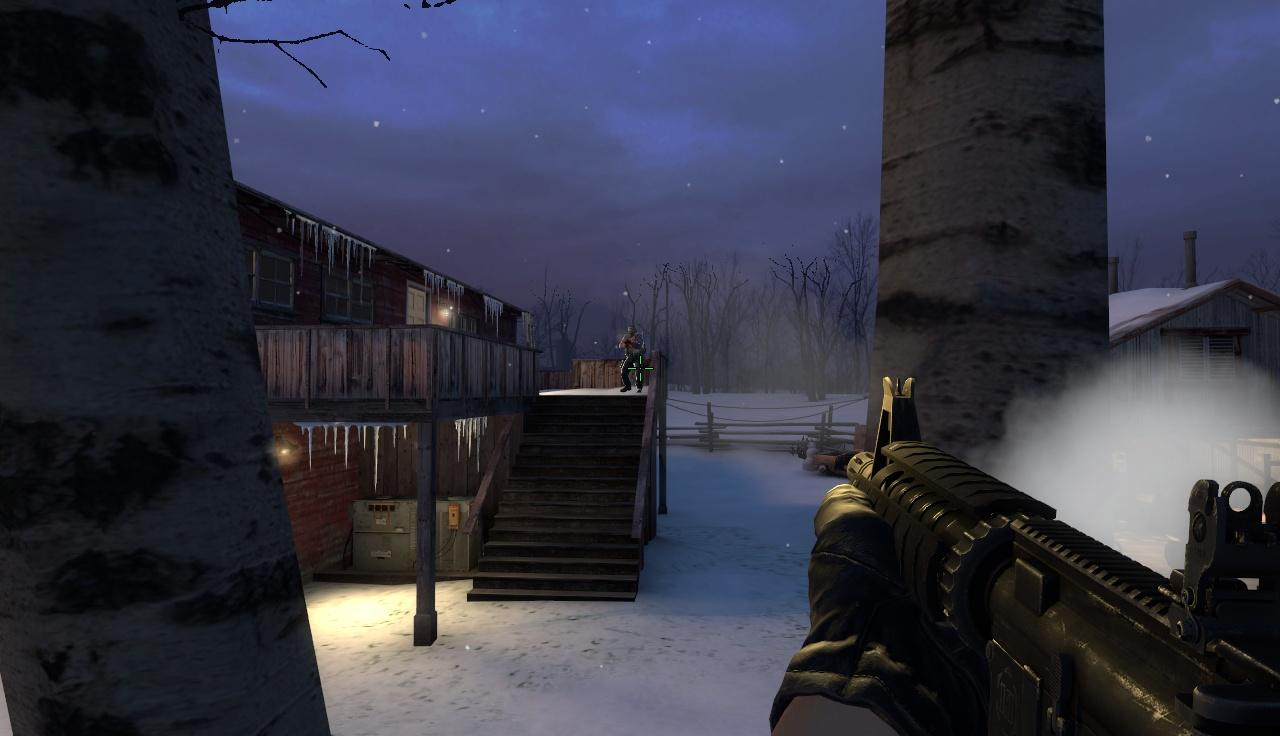rifle: (839, 371, 1280, 736)
tt: (618, 323, 647, 393)
tthead: (625, 323, 638, 337)
